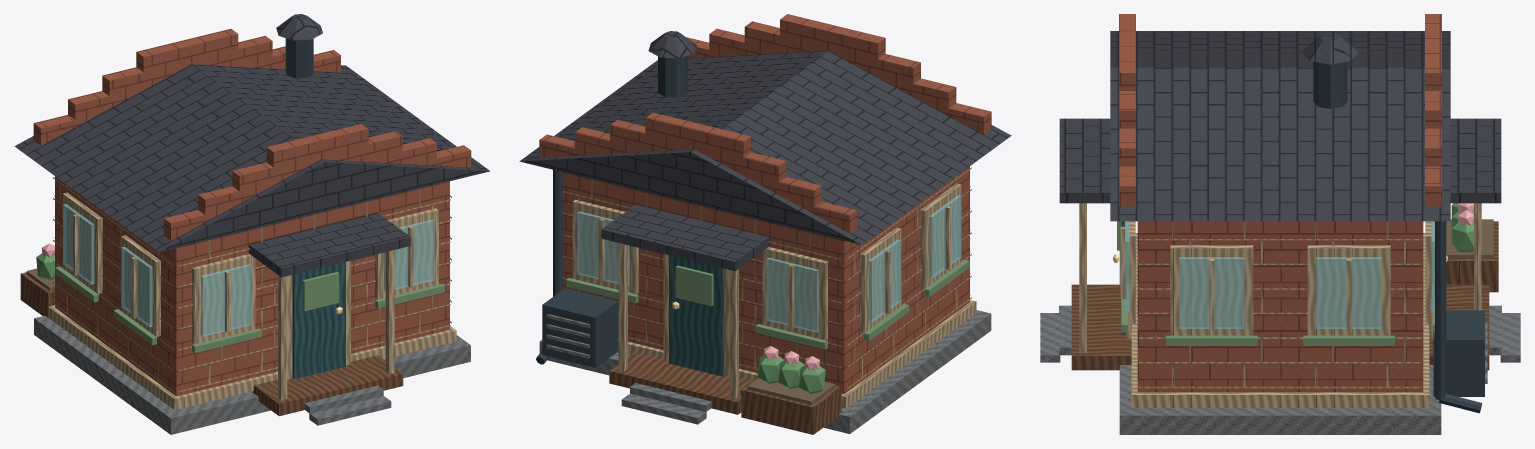
File: house_townhouse_lv1.glb
3 views of the same model, side by side, from view 1: azimuth 30°, elevation 25°; view 2: azimuth 150°, elevation 25°; view 3: azimuth 270°, elevation 25° (orthographic). The views are drawn at different scales.
Parts seen in each view (by area): view 1: gable_roof, walls, foundation, front_porch_canopy, front_door, floor_trim, front_window_frame, front_deck, front_window_frame.001, front_window_glass, stepped_gable.002, stepped_gable.006 (+24 smaller); view 2: gable_roof, walls, back_porch_canopy, foundation, back_door, back_window_frame, back_ac_unit, back_deck, back_window_frame.001, back_garden_bed, back_window_glass, stepped_gable.006 (+30 smaller); view 3: gable_roof, walls, foundation, right_window_frame, right_window_frame.001, floor_trim, right_window_glass, right_window_glass.001, back_porch_canopy, front_porch_canopy, front_deck, back_ac_unit (+29 smaller).
Part boxes in pixels (x1,y1,x2,y2): gable_roof: [14, 64, 489, 251]; walls: [55, 176, 449, 396]; foundation: [34, 315, 470, 434]; front_porch_canopy: [248, 213, 410, 277]; front_door: [292, 262, 345, 379]; floor_trim: [48, 305, 456, 410]; front_window_frame: [192, 254, 255, 344]; front_deck: [252, 355, 403, 416]; front_window_frame.001: [375, 208, 438, 299]; front_window_glass: [201, 264, 251, 336]; stepped_gable.002: [232, 131, 402, 191]; stepped_gable.006: [102, 35, 272, 97]; gable_roof: [519, 51, 1011, 244]; walls: [562, 166, 969, 394]; back_porch_canopy: [601, 204, 769, 271]; foundation: [539, 310, 991, 433]; back_door: [669, 255, 723, 376]; back_window_frame: [762, 247, 827, 340]; back_ac_unit: [542, 288, 618, 367]; back_deck: [609, 352, 753, 414]; back_window_frame.001: [572, 199, 638, 294]; back_garden_bed: [741, 378, 841, 434]; back_window_glass: [766, 257, 818, 332]; stepped_gable.006: [610, 120, 786, 184]; gable_roof: [1110, 31, 1450, 221]; walls: [1137, 221, 1423, 392]; foundation: [1119, 250, 1441, 434]; right_window_frame: [1170, 245, 1253, 335]; right_window_frame.001: [1307, 245, 1390, 335]; floor_trim: [1131, 233, 1429, 407]; right_window_glass: [1179, 257, 1244, 328]; right_window_glass.001: [1316, 257, 1381, 328]; back_porch_canopy: [1450, 118, 1501, 203]; front_porch_canopy: [1059, 118, 1110, 203]; front_deck: [1071, 284, 1131, 370]; back_ac_unit: [1433, 310, 1484, 396].
Size of the model in its own units: 3.15 by 2.71 by 3.36.
13 materials, 7 textured.
